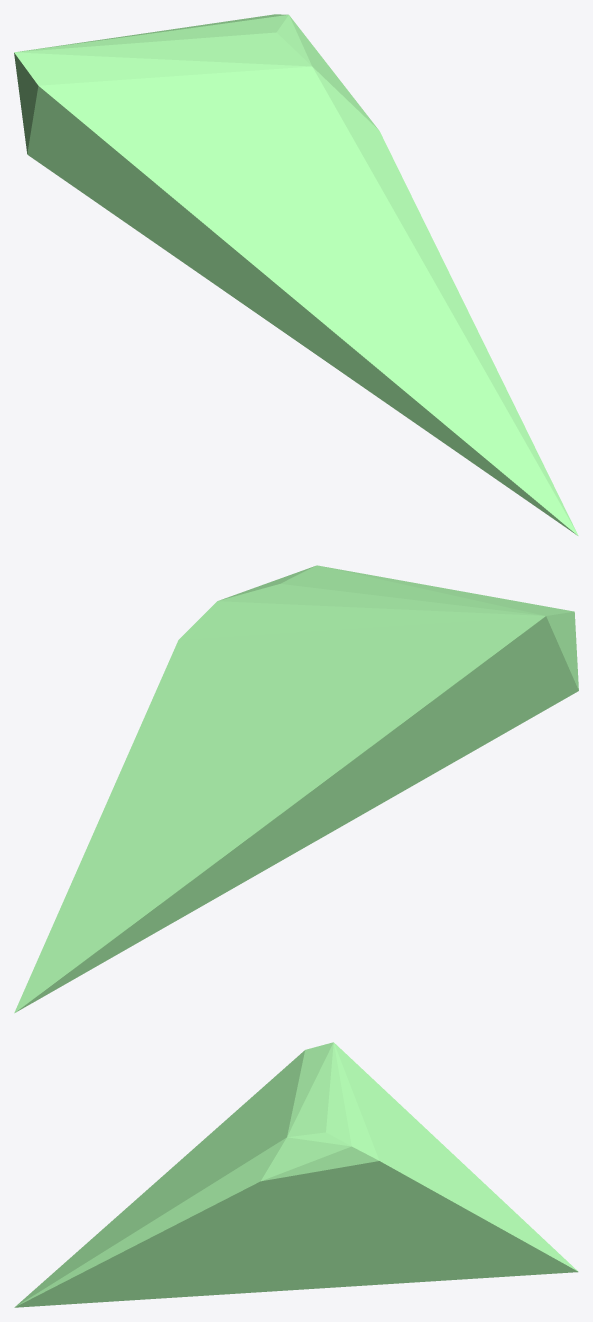
The model's file is UMIRobot_UMIRobot_link_5_convex_coll_5.dae.
The picture shows the model from 3 angles, top to bottom: view 1: azimuth 30°, elevation 25°; view 2: azimuth 150°, elevation 25°; view 3: azimuth 270°, elevation 25°; orthographic projection. The views are drawn at different scales.
Parts seen in each view (by area): view 1: node; view 2: node; view 3: node.
Part boxes in pixels (x1,y1,x2,y2): node: [14, 14, 578, 536]; node: [14, 565, 578, 1013]; node: [14, 1042, 578, 1307].
Bounding box in the file's own units: 0.0101 × 0.0106 × 0.0285.
